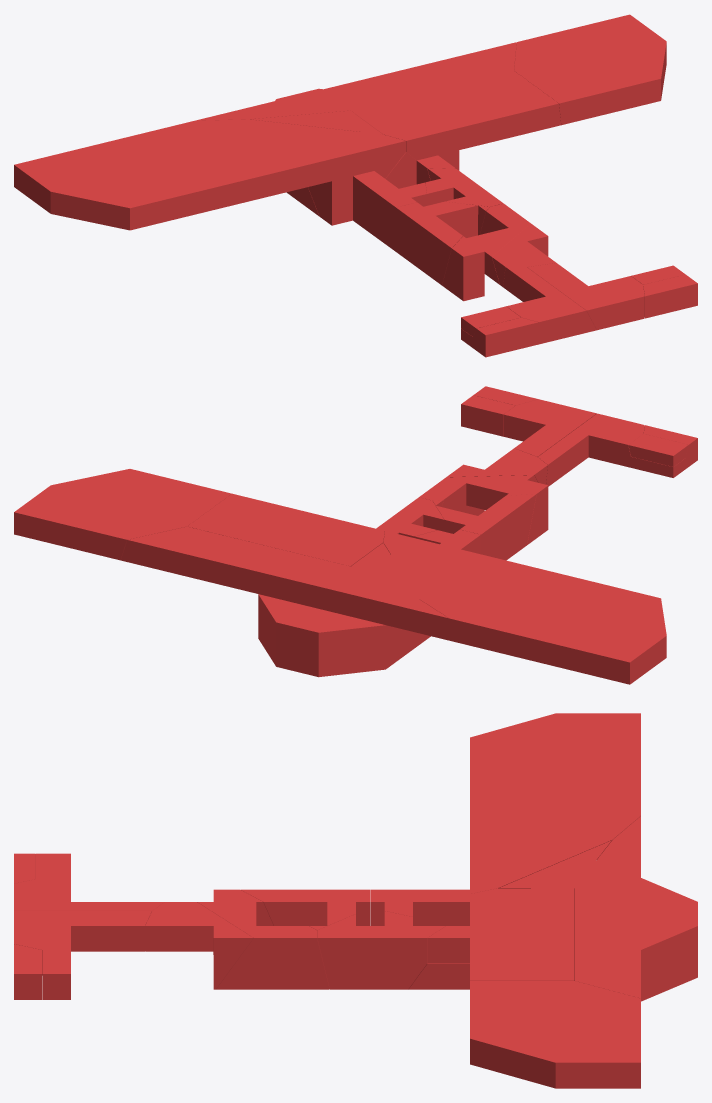
Rendered from BleriotXIMonoplaneRedDebris.dae.
The picture shows the model from 3 angles, top to bottom: view 1: azimuth 30°, elevation 25°; view 2: azimuth 150°, elevation 25°; view 3: azimuth 270°, elevation 25°; orthographic projection. The views are drawn at different scales.
Parts seen in each view (by area): view 1: Cube.008_cell.019, Cube.008_cell.014, Cube.008_cell.012, Cube.008_cell.001, Cube.008_cell.008, Cube.008_cell.013, Cube.008_cell.007, Cube.008_cell.004, Cube.008_cell.018, Cube.008_cell.005, Cube.008_cell.011, Cube.008_cell (+6 smaller); view 2: Cube.008_cell.019, Cube.008_cell.001, Cube.008_cell.014, Cube.008_cell.012, Cube.008_cell.008, Cube.008_cell.013, Cube.008_cell.007, Cube.008_cell.018, Cube.008_cell.005, Cube.008_cell, Cube.008_cell.002, Cube.008_cell.015 (+7 smaller); view 3: Cube.008_cell.019, Cube.008_cell.014, Cube.008_cell.001, Cube.008_cell.012, Cube.008_cell.005, Cube.008_cell.018, Cube.008_cell.013, Cube.008_cell, Cube.008_cell.007, Cube.008_cell.008, Cube.008_cell.015, Cube.008_cell.006 (+6 smaller).
Boxes of the visible parts, <box> form: Cube.008_cell.019: <box>14,119,416,251</box>; Cube.008_cell.014: <box>514,14,666,125</box>; Cube.008_cell.012: <box>351,71,560,170</box>; Cube.008_cell.001: <box>196,42,516,131</box>; Cube.008_cell.008: <box>503,267,596,344</box>; Cube.008_cell.013: <box>527,263,644,330</box>; Cube.008_cell.007: <box>396,202,462,285</box>; Cube.008_cell.004: <box>442,236,484,301</box>; Cube.008_cell.018: <box>466,203,530,284</box>; Cube.008_cell.005: <box>425,168,503,206</box>; Cube.008_cell.011: <box>473,317,538,357</box>; Cube.008_cell: <box>492,223,556,286</box>; Cube.008_cell.019: <box>383,529,666,684</box>; Cube.008_cell.001: <box>120,526,459,677</box>; Cube.008_cell.014: <box>14,469,231,560</box>; Cube.008_cell.012: <box>187,493,384,566</box>; Cube.008_cell.008: <box>538,413,644,486</box>; Cube.008_cell.013: <box>503,399,596,456</box>; Cube.008_cell.007: <box>460,494,536,560</box>; Cube.008_cell.018: <box>419,475,537,515</box>; Cube.008_cell.005: <box>376,497,444,537</box>; Cube.008_cell: <box>446,448,547,484</box>; Cube.008_cell.002: <box>461,395,515,436</box>; Cube.008_cell.015: <box>351,543,418,598</box>; Cube.008_cell.019: <box>370,713,640,925</box>; Cube.008_cell.014: <box>470,981,640,1088</box>; Cube.008_cell.001: <box>574,816,697,1001</box>; Cube.008_cell.012: <box>427,888,574,980</box>; Cube.008_cell.005: <box>317,911,445,989</box>; Cube.008_cell.018: <box>197,902,329,989</box>; Cube.008_cell.013: <box>14,911,151,975</box>; Cube.008_cell: <box>145,902,253,989</box>; Cube.008_cell.007: <box>241,889,369,925</box>; Cube.008_cell.008: <box>14,879,164,910</box>; Cube.008_cell.015: <box>499,840,611,887</box>; Cube.008_cell.006: <box>14,944,42,999</box>.
Bounding box in the file's own units: 5.8 × 4.8 × 0.6.
